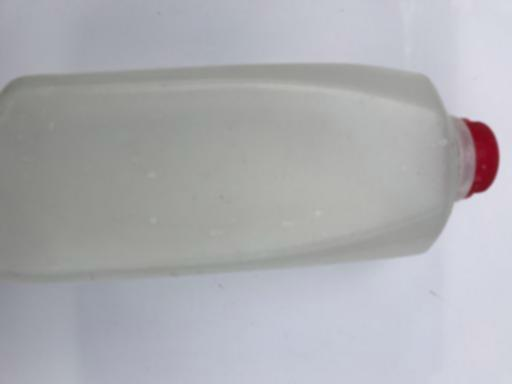HDPE: (1, 63, 500, 285)
plastic: (1, 63, 500, 285)
